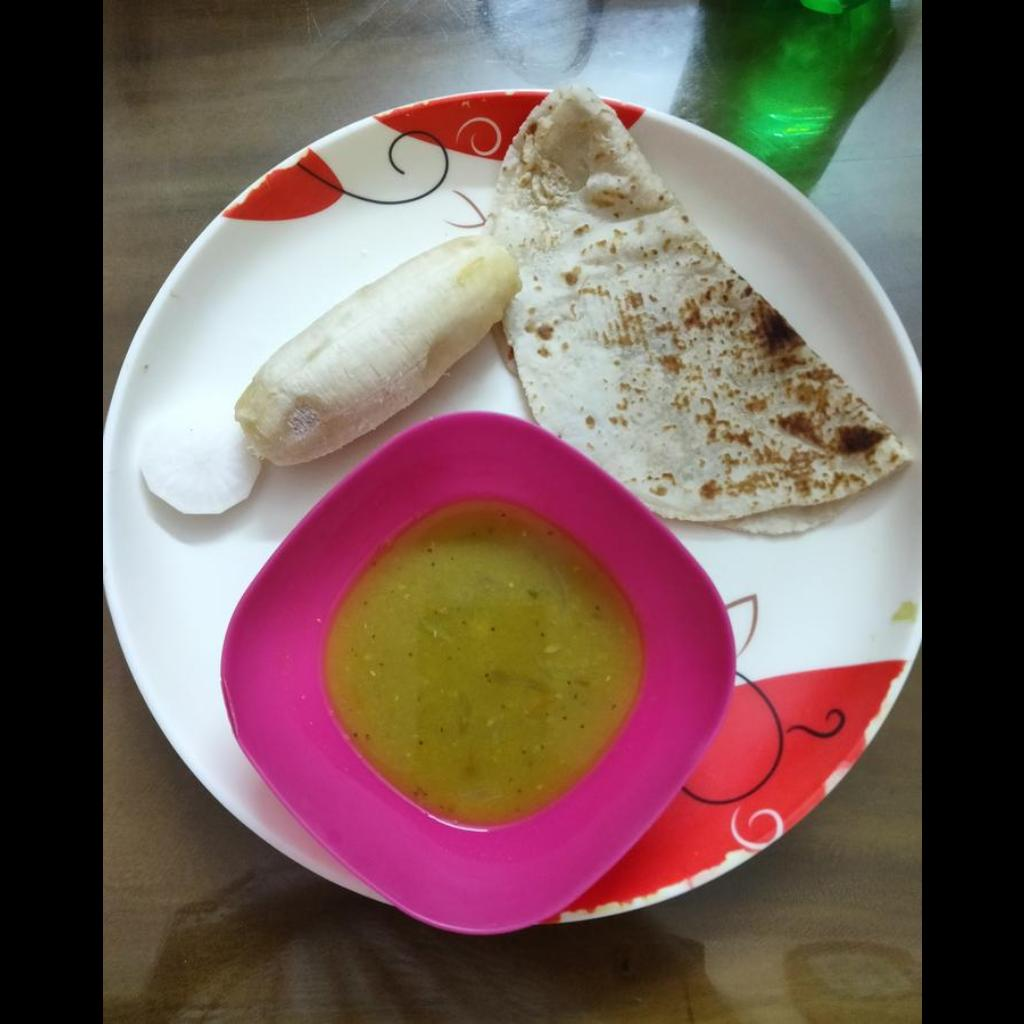banana: (237, 232, 518, 468)
cucumber: (137, 393, 260, 514)
daal: (321, 499, 643, 825)
ruti: (485, 82, 914, 538)
